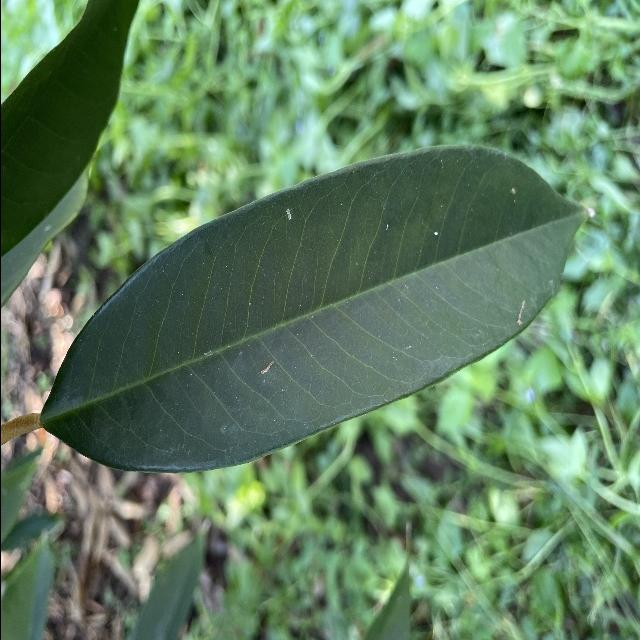No Disease: (31, 135, 595, 483)
